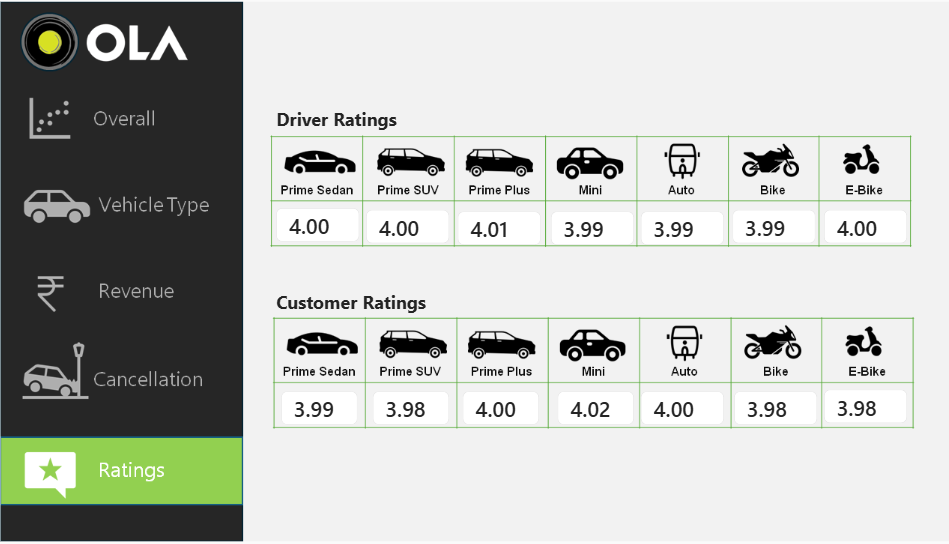

Layout of this report page (visuals, bound fields, positions):
{"tool":"powerbi","page":{"name":"Ratings","canvas":[1920,1080],"ordinal":4},"visuals":[{"type":"actionButton","box":[323.3,286,318.6,90.7],"z":0},{"type":"actionButton","box":[323.3,514,318.6,90.7],"z":1000},{"type":"actionButton","box":[320.9,620.9,318.6,90.7],"z":2000},{"type":"actionButton","box":[320.9,762.8,318.6,90.7],"z":3000},{"type":"actionButton","box":[320.9,400,318.6,90.7],"z":4000},{"type":"cardVisual","fields":{"Data":["Avg(July.Driver_Ratings)"]},"box":[688.6,450,111.4,45.5],"z":5000},{"type":"cardVisual","fields":{"Data":["Avg(July.Driver_Ratings)"]},"box":[809.1,452.3,111.4,45.5],"z":6000},{"type":"cardVisual","fields":{"Data":["Avg(July.Driver_Ratings)"]},"box":[931.8,454.5,111.4,45.5],"z":7000},{"type":"cardVisual","fields":{"Data":["Avg(July.Driver_Ratings)"]},"box":[1054.5,454.5,111.4,45.5],"z":8000},{"type":"cardVisual","fields":{"Data":["Avg(July.Driver_Ratings)"]},"box":[1175,454.5,111.4,45.5],"z":9000},{"type":"cardVisual","fields":{"Data":["Avg(July.Driver_Ratings)"]},"box":[1297.7,452.3,111.4,45.5],"z":10000},{"type":"cardVisual","fields":{"Data":["Avg(July.Driver_Ratings)"]},"box":[1420.5,452.3,111.4,45.5],"z":11000},{"type":"cardVisual","fields":{"Data":["Avg(July.Customer_Rating)"]},"box":[1420.5,693.2,111.4,45.5],"z":12000},{"type":"cardVisual","fields":{"Data":["Avg(July.Customer_Rating)"]},"box":[1300,695.5,111.4,45.5],"z":13000},{"type":"cardVisual","fields":{"Data":["Avg(July.Customer_Rating)"]},"box":[1175,695.5,111.4,45.5],"z":14000},{"type":"cardVisual","fields":{"Data":["Avg(July.Customer_Rating)"]},"box":[1063.6,695.5,102.3,45.5],"z":15000},{"type":"cardVisual","fields":{"Data":["Avg(July.Customer_Rating)"]},"box":[938.6,695.5,102.3,45.5],"z":16000},{"type":"cardVisual","fields":{"Data":["Avg(July.Customer_Rating)"]},"box":[818.2,695.5,102.3,45.5],"z":17000},{"type":"cardVisual","fields":{"Data":["Avg(July.Customer_Rating)"]},"box":[695.5,695.5,102.3,45.5],"z":18000},{"type":"textbox","box":[688.6,315.9,322.7,31.8],"z":19000},{"type":"textbox","box":[688.6,559.1,322.7,31.8],"z":20000}]}

Visuals, with their boxes on the page's 1920x1080 design canvas (x1, y1, x2, y2). These are canvas units, not pixel positions in the 949x544 screenshot, which may show the page scaled, cropped or inside an application window:
actionButton: [323, 286, 642, 377]
actionButton: [323, 514, 642, 605]
actionButton: [321, 621, 640, 712]
actionButton: [321, 763, 640, 854]
actionButton: [321, 400, 640, 491]
cardVisual - Avg(July.Driver_Ratings): [689, 450, 800, 496]
cardVisual - Avg(July.Driver_Ratings): [809, 452, 920, 498]
cardVisual - Avg(July.Driver_Ratings): [932, 454, 1043, 500]
cardVisual - Avg(July.Driver_Ratings): [1054, 454, 1166, 500]
cardVisual - Avg(July.Driver_Ratings): [1175, 454, 1286, 500]
cardVisual - Avg(July.Driver_Ratings): [1298, 452, 1409, 498]
cardVisual - Avg(July.Driver_Ratings): [1420, 452, 1532, 498]
cardVisual - Avg(July.Customer_Rating): [1420, 693, 1532, 739]
cardVisual - Avg(July.Customer_Rating): [1300, 696, 1411, 741]
cardVisual - Avg(July.Customer_Rating): [1175, 696, 1286, 741]
cardVisual - Avg(July.Customer_Rating): [1064, 696, 1166, 741]
cardVisual - Avg(July.Customer_Rating): [939, 696, 1041, 741]
cardVisual - Avg(July.Customer_Rating): [818, 696, 920, 741]
cardVisual - Avg(July.Customer_Rating): [696, 696, 798, 741]
textbox: [689, 316, 1011, 348]
textbox: [689, 559, 1011, 591]
